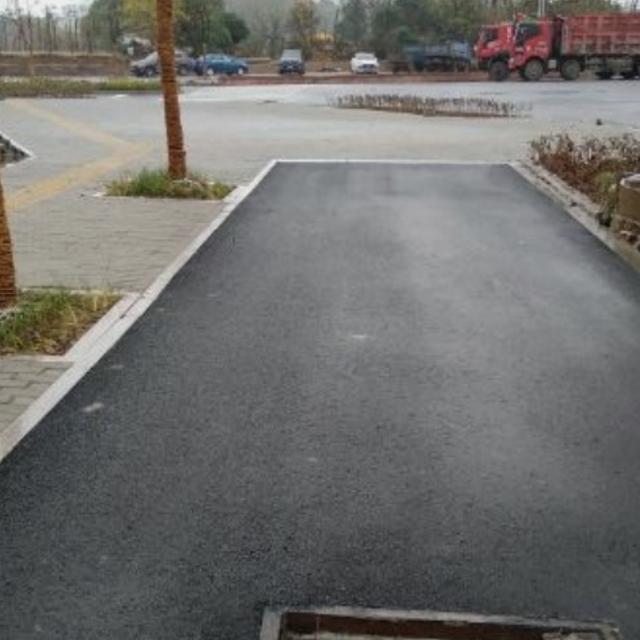broke: (241, 600, 640, 640)
